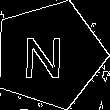N_N: (28, 29, 71, 80)
